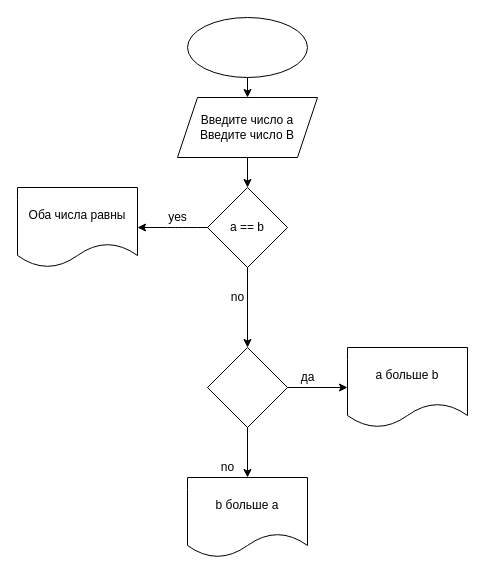
The diagram is 485 pixels wide and 575 high, and some of its shapes have lost their labels. Here are the shapes that lost their labels. From the top down, the box of each, then its label:
(186, 16, 308, 78): start
(206, 346, 288, 428): a > b
